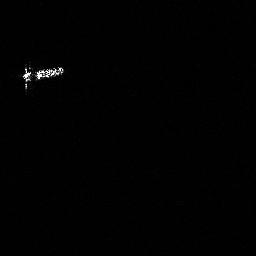ship: (20, 65, 66, 90)
